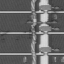dust: (15, 37, 20, 41), (28, 28, 32, 32), (1, 38, 4, 41)
